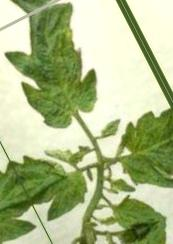Tomato leaf mosaic virus: (0, 0, 124, 143), (9, 128, 99, 229), (105, 100, 173, 205)
